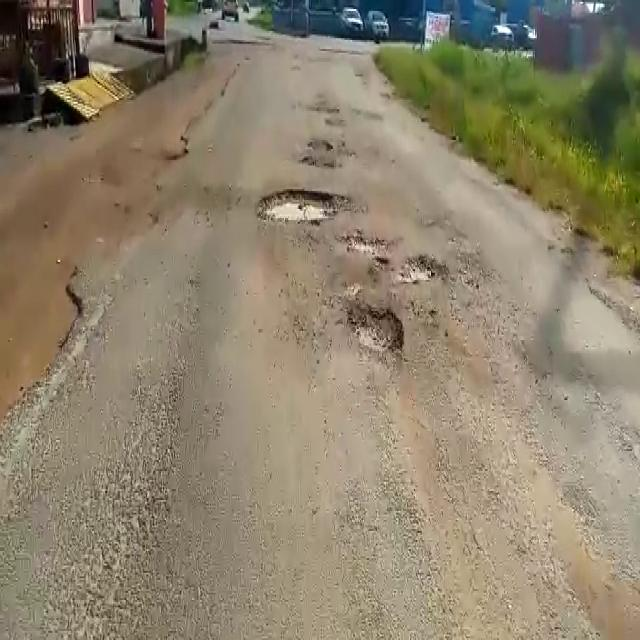Pothole: (256, 186, 355, 226), (340, 297, 404, 352), (337, 232, 394, 265), (403, 251, 447, 285)
